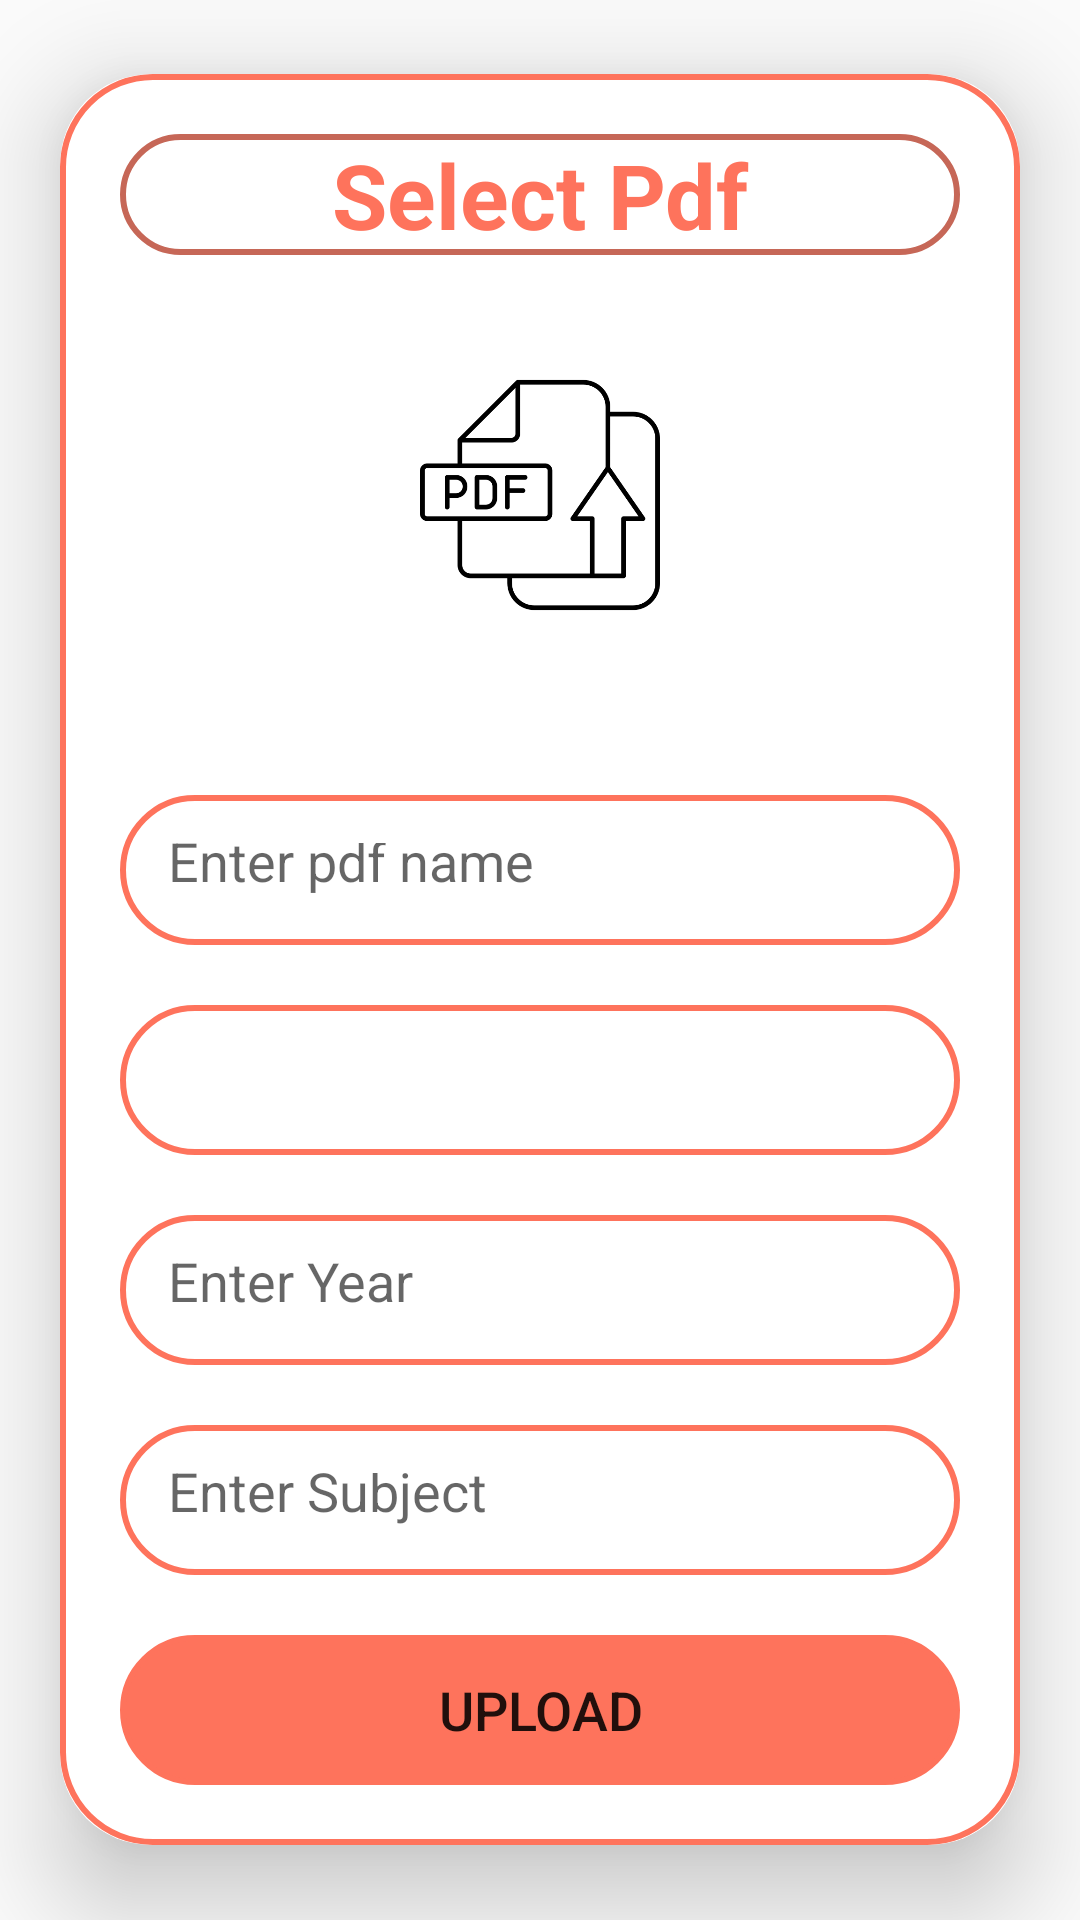

Where icons sit on this 1080w x 1920h app screen, as (x1, y1, x2, y2):
upload: (420, 380, 660, 610)
